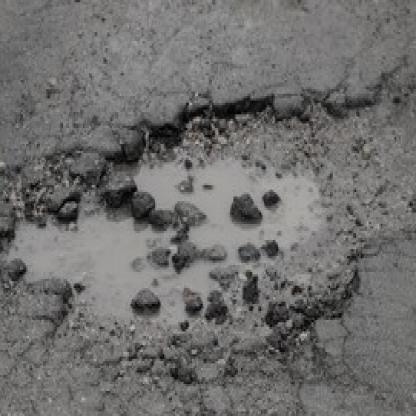pothole: (0, 89, 382, 370)
